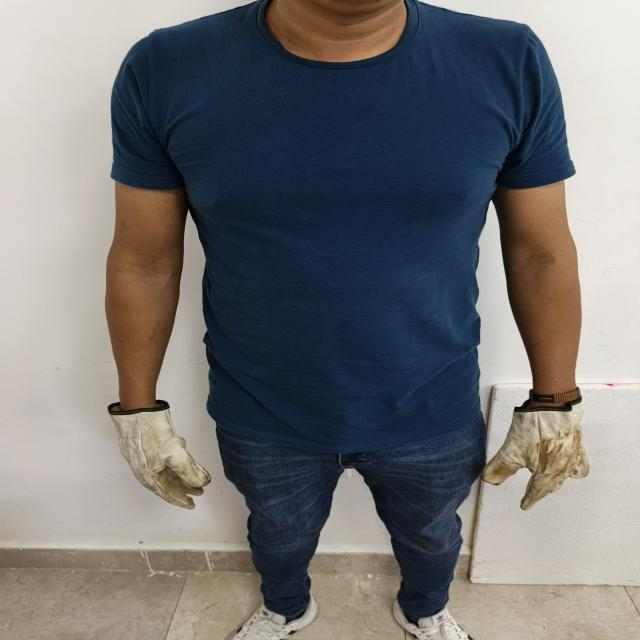gloves: (482, 397, 589, 510), (108, 400, 211, 510)
